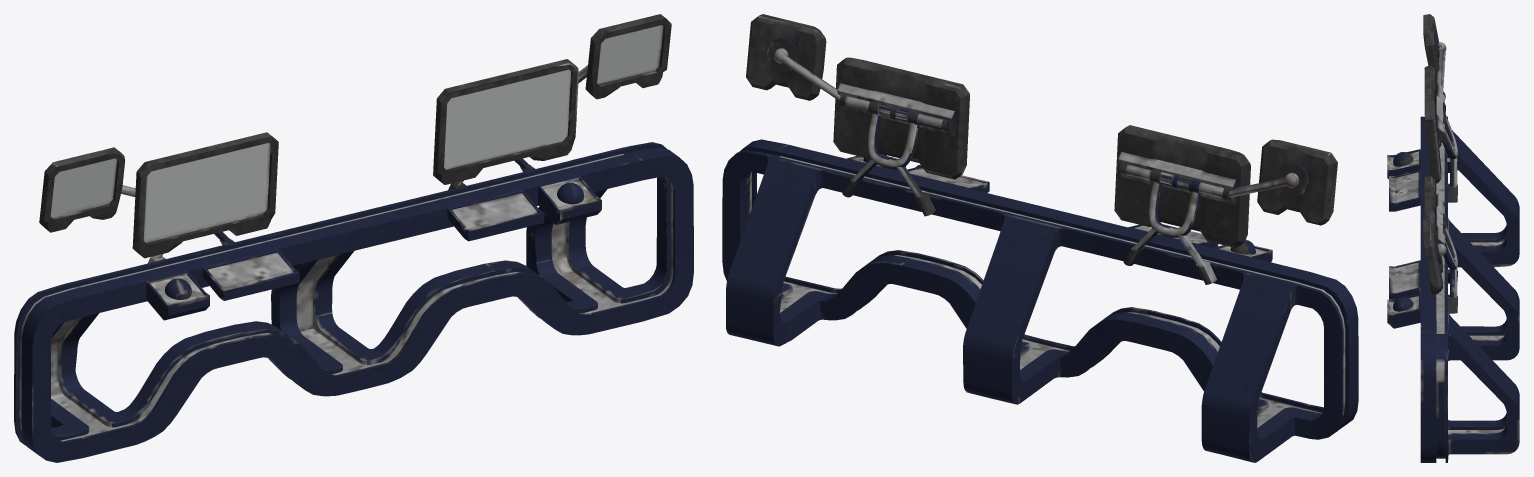
The model's file is table.fbx.
The picture shows the model from 3 angles, left to right: view 1: azimuth 30°, elevation 25°; view 2: azimuth 150°, elevation 25°; view 3: azimuth 270°, elevation 25°; orthographic projection. The views are drawn at different scales.
Parts seen in each view (by area): view 1: Cube.011; view 2: Cube.011; view 3: Cube.011.
Boxes of the visible parts, x1,y1,x2,y2 form: Cube.011: [14, 14, 693, 462]; Cube.011: [722, 14, 1358, 462]; Cube.011: [1387, 14, 1519, 462].
Bounding box in the file's own units: 864 × 371 × 198.
